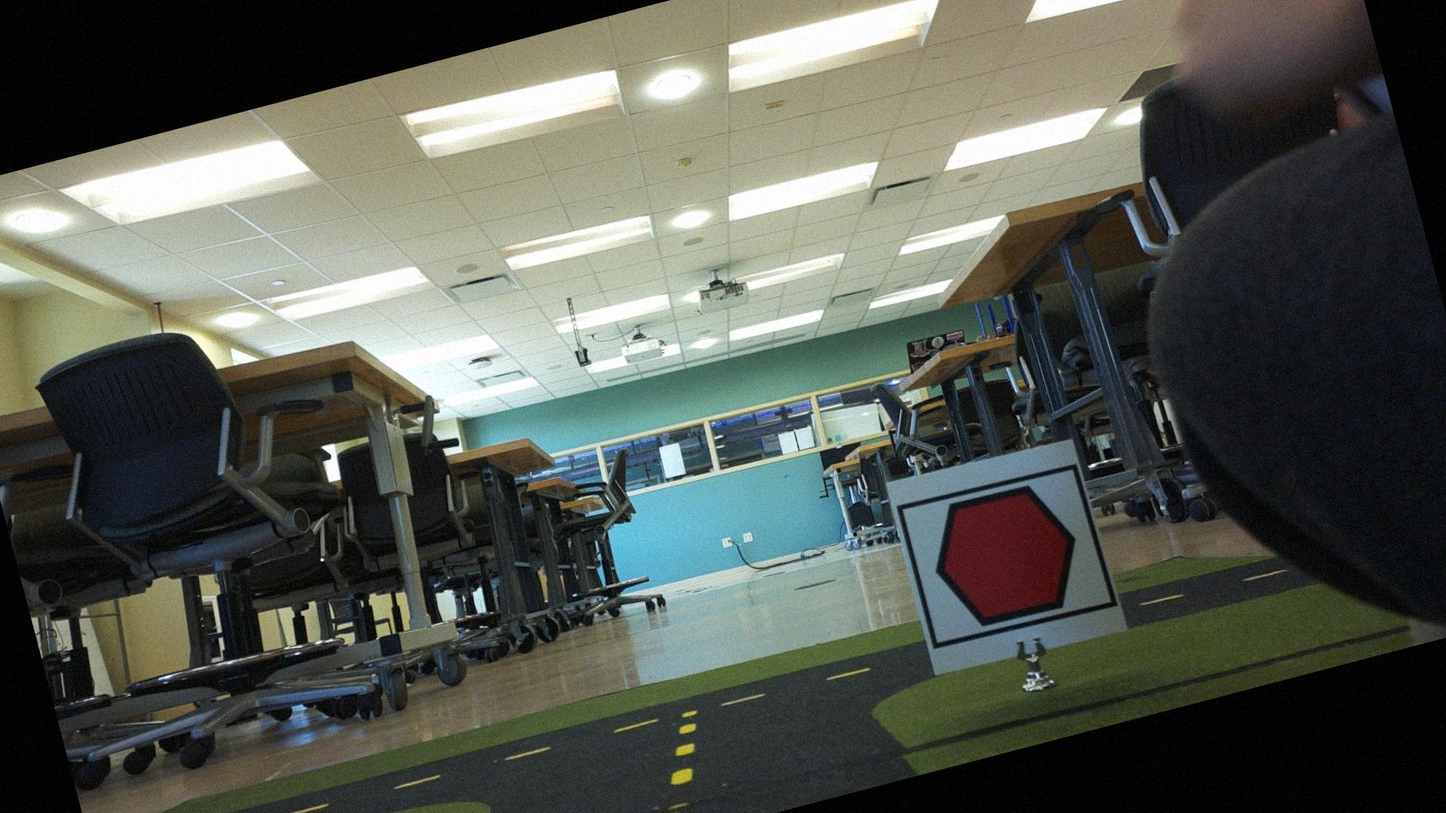stop: (906, 466, 1103, 647)
yellowline: (633, 720, 718, 812)
